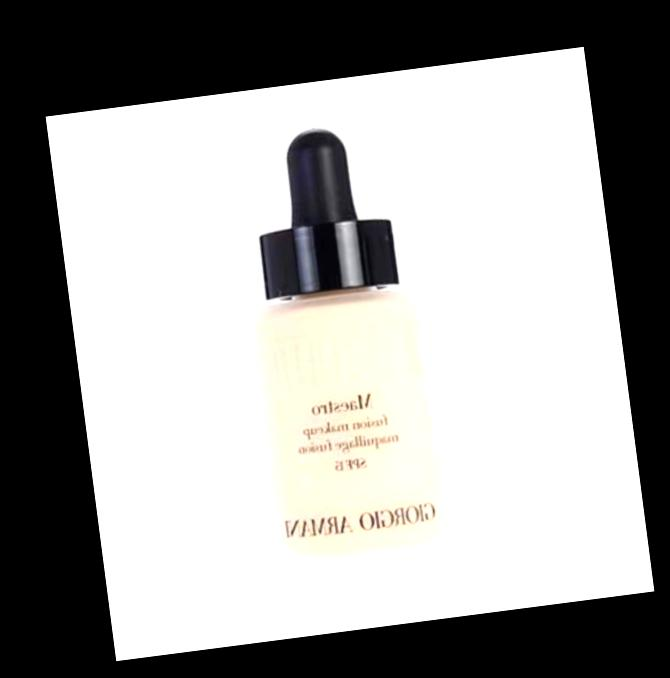cosmetic: (211, 113, 476, 592)
